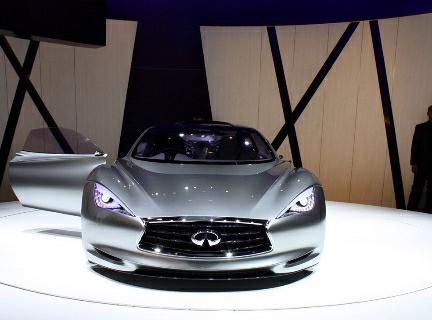英菲尼迪-Emerg-E: (78, 119, 334, 295)
